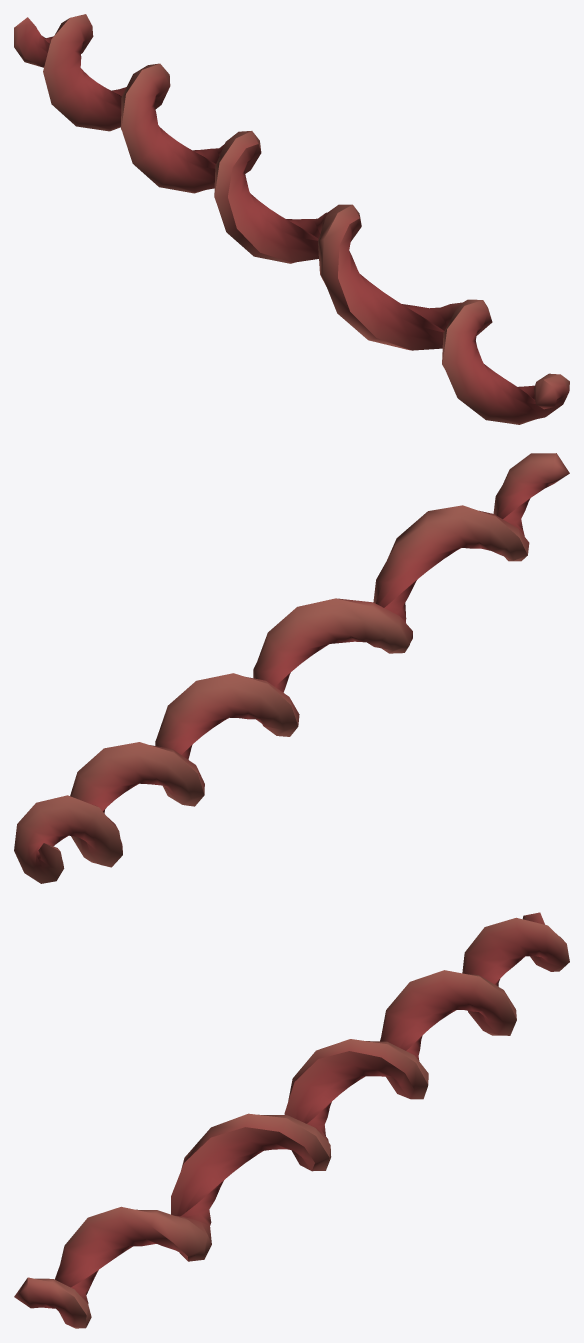
Rendered from microscopic-bacteria-corkscrew-bacterium_v1.fbx.
3 renders of one model, top to bottom at view 1: azimuth 30°, elevation 25°; view 2: azimuth 150°, elevation 25°; view 3: azimuth 330°, elevation 25°, orthographic.
Parts seen in each view (by area): view 1: Corkscrew Bacterium_v1; view 2: Corkscrew Bacterium_v1; view 3: Corkscrew Bacterium_v1.
Boxes of the visible parts, <box> form: Corkscrew Bacterium_v1: <box>14,14,569,424</box>; Corkscrew Bacterium_v1: <box>14,453,569,883</box>; Corkscrew Bacterium_v1: <box>14,912,569,1328</box>.
Bounding box in the file's own units: 0.0144 × 0.0148 × 0.15.
